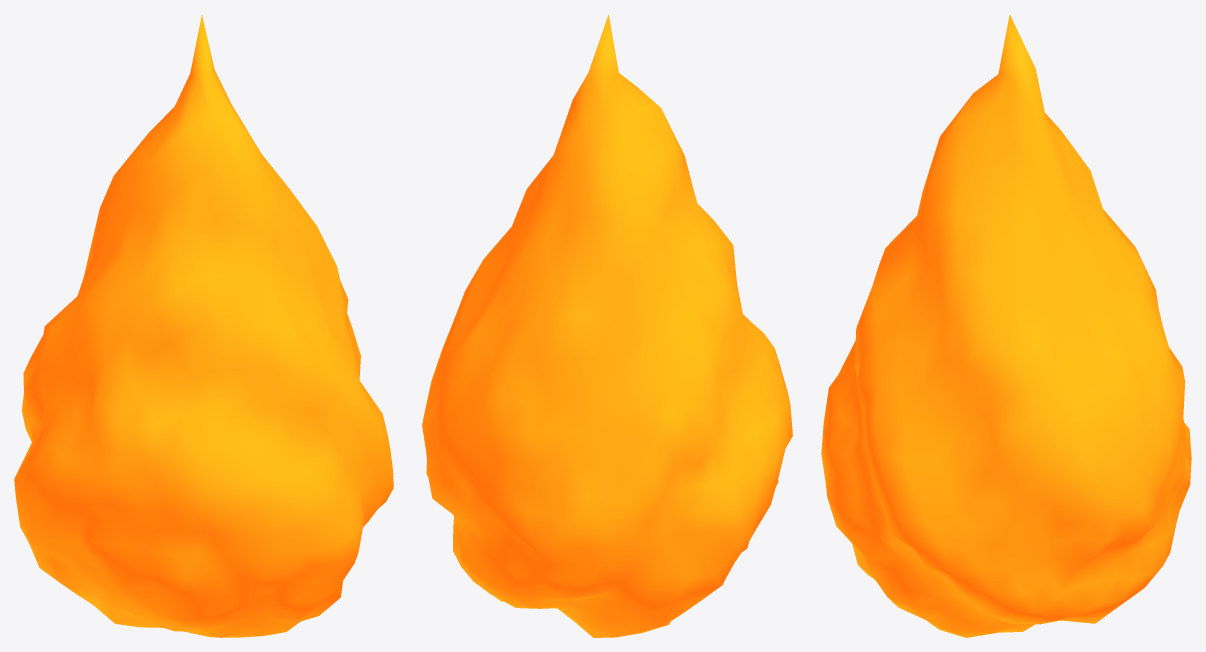
Rendered from flame_ball_v1.fbx.
3 renders of one model, left to right at view 1: azimuth 30°, elevation 25°; view 2: azimuth 150°, elevation 25°; view 3: azimuth 270°, elevation 25°, orthographic. The views are drawn at different scales.
Visible parts, largest first — view 1: Flame; view 2: Flame; view 3: Flame.
Part boxes in pixels (left/top/right/bottom): Flame: left=14, top=15, right=393, bottom=637; Flame: left=422, top=15, right=792, bottom=637; Flame: left=821, top=14, right=1191, bottom=637.
Size of the model in its own units: 99.64 by 183 by 101.
